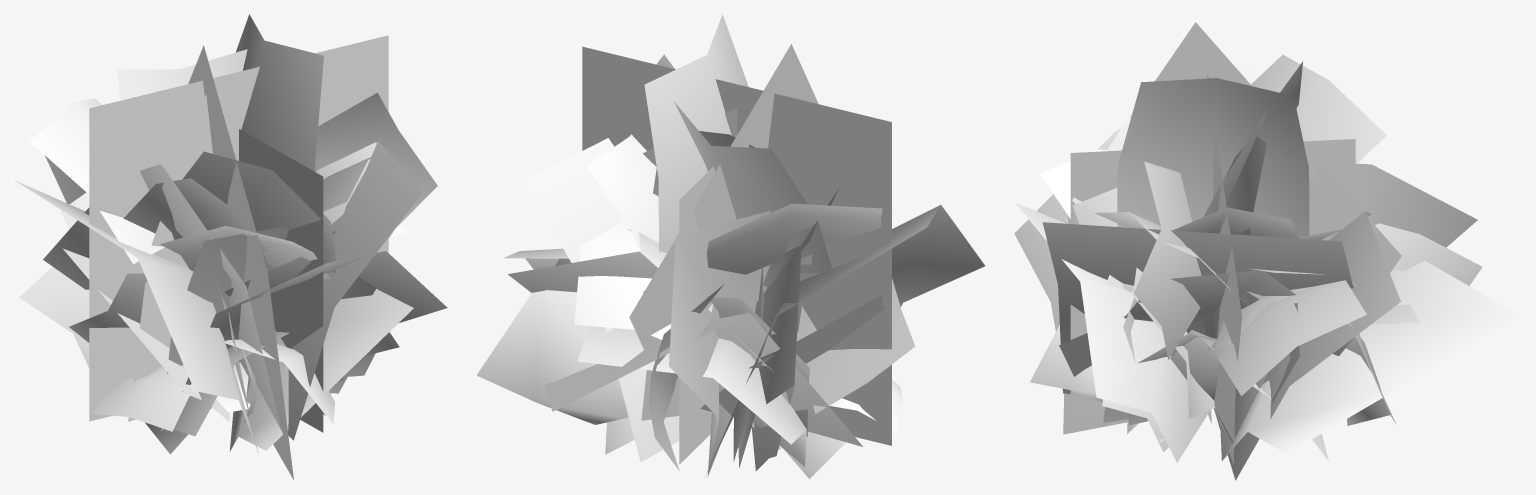
The model's file is wool.gltf.
3 views of the same model, side by side, from view 1: azimuth 30°, elevation 25°; view 2: azimuth 150°, elevation 25°; view 3: azimuth 270°, elevation 25° (orthographic). The views are drawn at different scales.
Parts seen in each view (by area): view 1: bush_02; view 2: bush_02; view 3: bush_02.
Part boxes in pixels (x1,y1,x2,y2): bush_02: (15, 14, 447, 479); bush_02: (476, 14, 984, 478); bush_02: (1014, 22, 1521, 480).
Size of the model in its own units: 129 by 131 by 145.
1 material, 1 textured.
